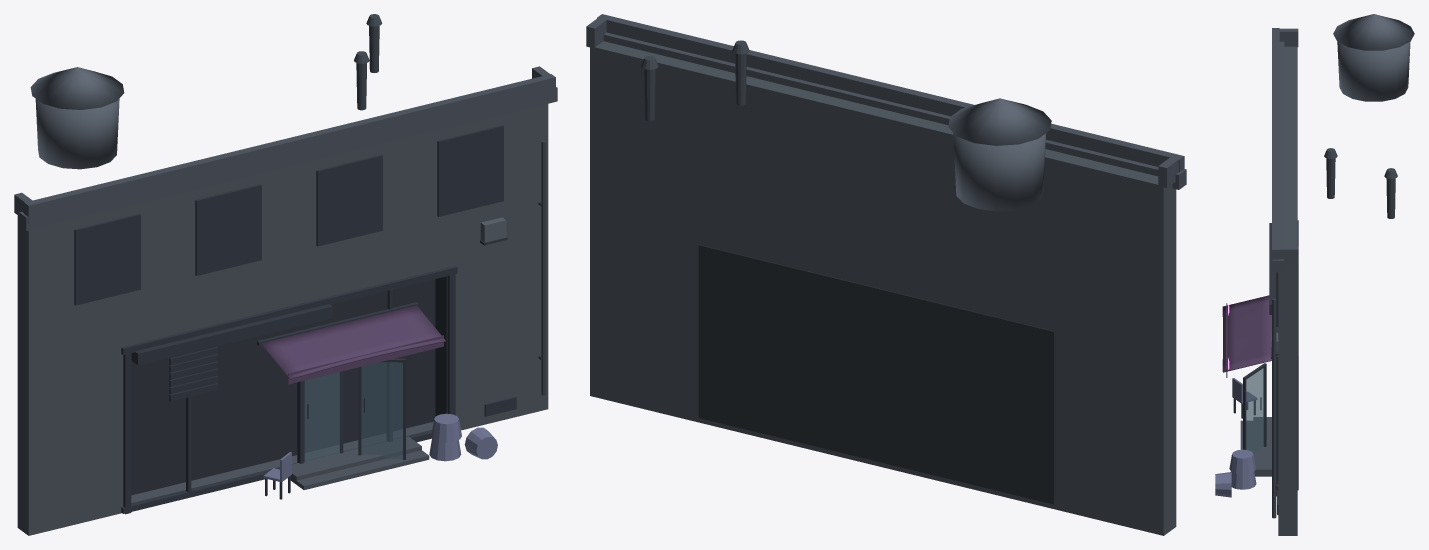
Rendered from laundry-facade.glb.
3 renders of one model, left to right at view 1: azimuth 30°, elevation 25°; view 2: azimuth 150°, elevation 25°; view 3: azimuth 270°, elevation 25°, orthographic. The views are drawn at different scales.
Visible parts, largest first — view 1: fqTop, fqLeft, revBack, fqRight, parapF, awning, fw2Box, fw1Box, fw3Box, fw0Box, tank, cornice (+17 smaller); view 2: revBack, fqTop, fqLeft, fqRight, parapF, tank, cornice, tankCap, fqSill; view 3: fqRight, tank, awning, tankCap, fqTop, parapF, doorR_g, cornice, downpipe, step2, fqLeft, bask1 (+12 smaller).
Boxes of the visible parts, <box> form: fqTop: <box>127,128,449,345</box>; fqLeft: <box>17,206,127,535</box>; revBack: <box>131,279,435,495</box>; fqRight: <box>449,104,548,430</box>; parapF: <box>24,74,555,223</box>; awning: <box>261,305,445,379</box>; fw2Box: <box>316,154,382,246</box>; fw1Box: <box>195,184,261,275</box>; fw3Box: <box>437,125,503,216</box>; fw0Box: <box>74,213,140,305</box>; tank: <box>35,98,119,169</box>; cornice: <box>19,87,557,230</box>; revBack: <box>698,244,1054,504</box>; fqTop: <box>699,66,1062,331</box>; fqLeft: <box>1054,153,1176,535</box>; fqRight: <box>590,41,707,422</box>; parapF: <box>597,14,1184,172</box>; tank: <box>953,133,1046,211</box>; cornice: <box>603,32,1186,189</box>; tankCap: <box>948,98,1051,145</box>; fqSill: <box>699,418,1054,508</box>; fqRight: <box>1278,221,1297,535</box>; tank: <box>1337,41,1410,101</box>; awning: <box>1222,295,1271,372</box>; tankCap: <box>1333,14,1414,50</box>; fqTop: <box>1284,86,1297,221</box>; parapF: <box>1272,28,1279,265</box>; doorR_g: <box>1246,368,1264,453</box>; cornice: <box>1272,41,1284,272</box>; downpipe: <box>1272,298,1276,518</box>; step2: <box>1253,417,1271,473</box>; fqLeft: <box>1284,46,1297,86</box>; bask1: <box>1229,449,1255,474</box>.
Size of the model in its own units: 12.3 by 8.94 by 4.64.
